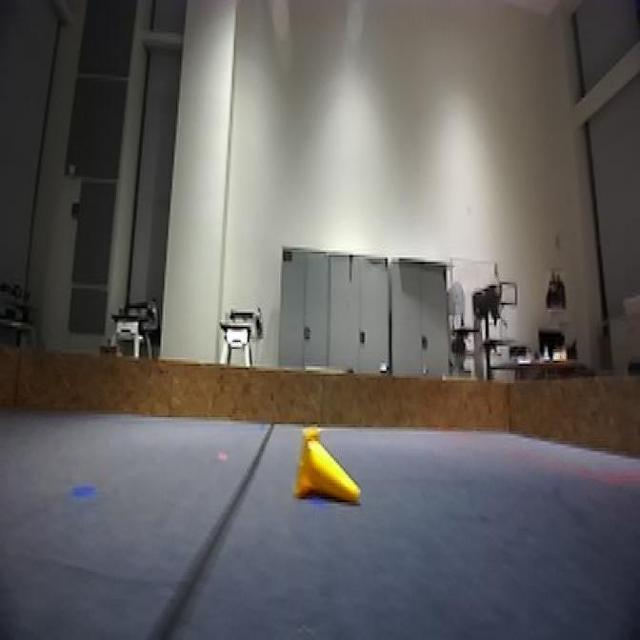frc_cone: (289, 420, 362, 518)
